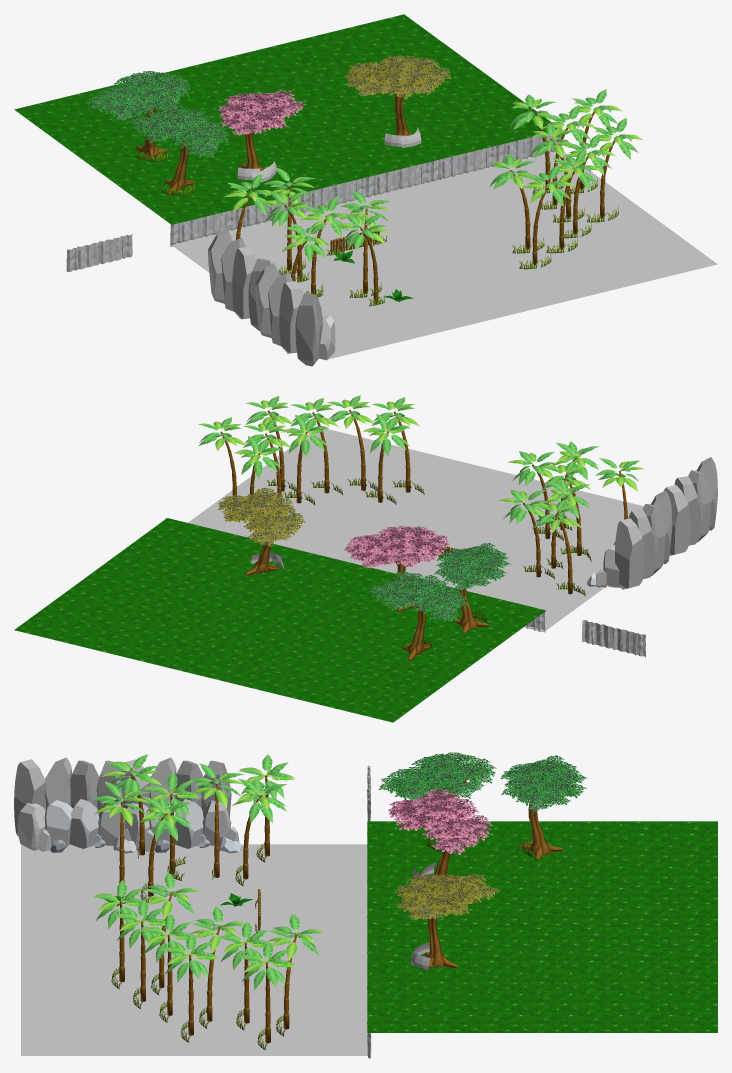
Rendered from Island01.fbx.
3 views of the same model, one above another, from view 1: azimuth 30°, elevation 25°; view 2: azimuth 150°, elevation 25°; view 3: azimuth 270°, elevation 25° (orthographic). The views are drawn at different scales.
Visible parts, largest first — view 1: SandFloor, GrassFloor, Cliff, FolliageFluffyY, FolliageFluffyG.001, FolliageFluffyG, FolliageFluffyP, RockG.004, Cliff.001, RockG.005, RockG.013, Branch (+22 smaller); view 2: GrassFloor, SandFloor, FolliageFluffyP, FolliageFluffyY, FolliageFluffyG.001, FolliageFluffyG, RockG.015, Cliff.001, RockG.007, Branch.005, Branch.008, Branch.013 (+21 smaller); view 3: GrassFloor, SandFloor, FolliageFluffyP, FolliageFluffyG, FolliageFluffyY, FolliageFluffyG.001, Branch.010, Branch.007, RockG.004, Branch.013, Branch.002, Branch.004 (+27 smaller).
Part boxes in pixels (x1,y1,x2,y2): SandFloor: [171, 151, 717, 359]; GrassFloor: [14, 14, 557, 224]; Cliff: [170, 135, 561, 246]; FolliageFluffyY: [343, 55, 451, 99]; FolliageFluffyG.001: [88, 71, 190, 120]; FolliageFluffyG: [128, 103, 228, 157]; FolliageFluffyP: [218, 90, 305, 135]; RockG.004: [295, 293, 322, 366]; Cliff.001: [66, 234, 132, 271]; RockG.005: [279, 281, 303, 353]; RockG.013: [232, 246, 256, 319]; Branch: [335, 214, 389, 303]; GrassFloor: [14, 518, 546, 722]; SandFloor: [188, 429, 643, 631]; FolliageFluffyP: [343, 525, 450, 568]; FolliageFluffyY: [218, 487, 305, 546]; FolliageFluffyG.001: [367, 571, 468, 621]; FolliageFluffyG: [434, 543, 510, 590]; RockG.015: [614, 518, 644, 589]; Cliff.001: [582, 620, 645, 657]; RockG.007: [663, 485, 689, 555]; Branch.005: [363, 414, 410, 502]; Branch.008: [281, 414, 329, 503]; Branch.013: [498, 489, 548, 577]; GrassFloor: [367, 821, 717, 1032]; SandFloor: [21, 844, 371, 1055]; FolliageFluffyP: [388, 788, 492, 854]; FolliageFluffyG: [378, 752, 496, 802]; FolliageFluffyY: [395, 874, 500, 919]; FolliageFluffyG.001: [500, 755, 587, 811]; Branch.010: [239, 941, 296, 1043]; Branch.007: [162, 933, 219, 1035]; RockG.004: [14, 759, 46, 836]; Branch.013: [232, 777, 286, 879]; Branch.002: [137, 795, 192, 896]; Branch.004: [114, 900, 166, 1001].
Bounding box in the file's own units: 77.38 × 14.4 × 84.35.
